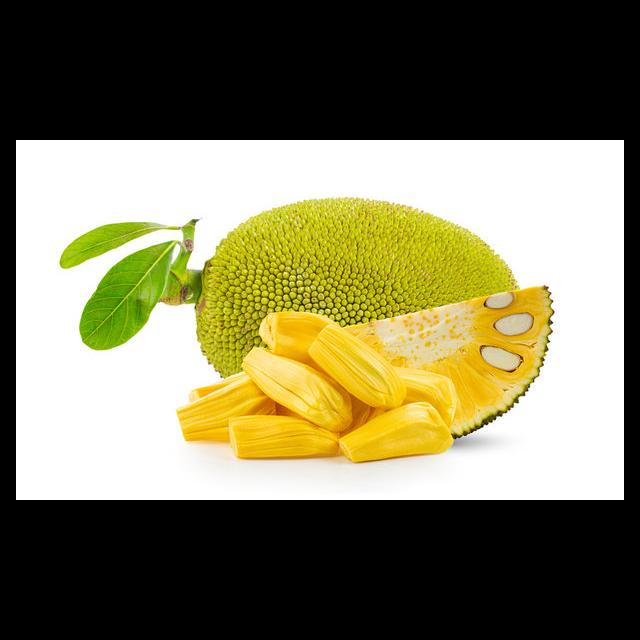mit: (199, 195, 515, 381), (286, 286, 554, 438)
